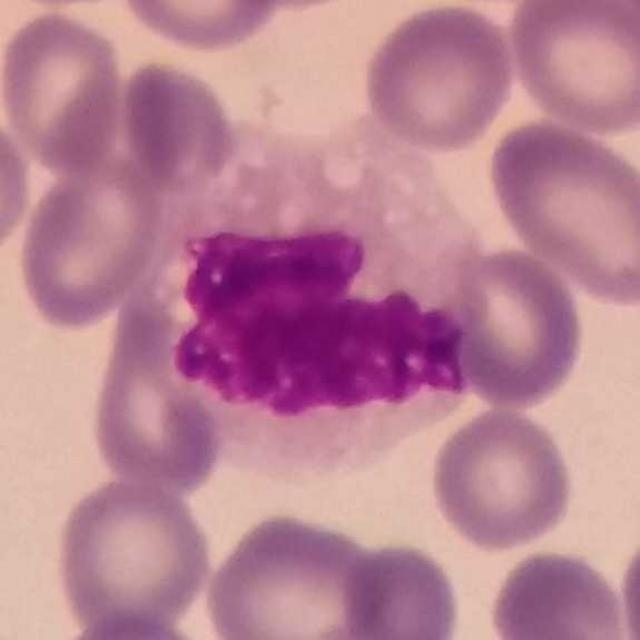Monocyte: (157, 120, 501, 492)
RBC: (482, 114, 640, 310), (12, 150, 170, 334), (49, 473, 217, 638), (85, 306, 227, 499), (429, 240, 588, 412), (199, 507, 394, 640), (357, 1, 520, 155), (425, 403, 579, 554), (0, 5, 129, 176), (503, 0, 640, 137), (116, 56, 240, 196), (483, 544, 633, 640), (338, 536, 467, 640), (114, 0, 286, 55), (0, 109, 36, 267), (42, 611, 218, 640)
